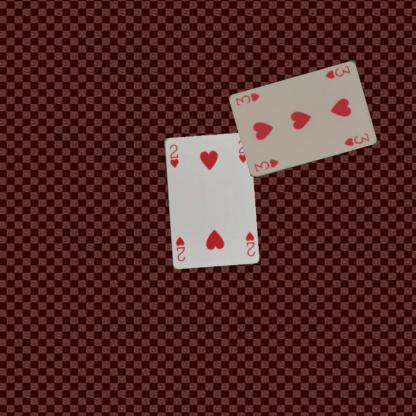2h: (243, 228, 256, 258), (167, 142, 180, 168)
3h: (251, 156, 280, 173), (322, 63, 351, 80)
